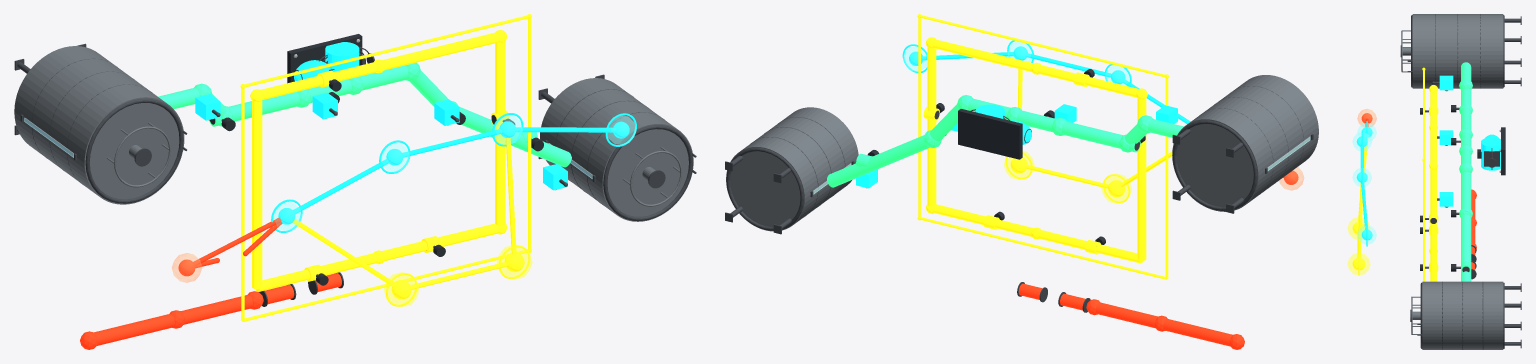
Rendered from safecut_ot_pipeline_graph.glb.
3 views of the same model, side by side, from view 1: azimuth 30°, elevation 25°; view 2: azimuth 150°, elevation 25°; view 3: azimuth 270°, elevation 25° (orthographic). The views are drawn at different scales.
Parts seen in each view (by area): view 1: Process_tank_A_body, Process_tank_B_body, Safety_loop_05, Safety_loop_02, Process_tank_A_top_ring, Safety_loop_03, Protected_OT_pipeline_06, Process_tank_B_top_ring, Safety_loop_04, Attacker_route_00, Safety_loop_01, Safety_loop_00 (+29 smaller); view 2: Process_tank_A_body, Process_tank_B_body, Main_OT_pump_base, Protected_OT_pipeline_06, Safety_loop_05, Safety_loop_02, Safety_loop_03, Process_tank_A_bottom_ring, Safety_loop_00, Safety_loop_04, Safety_loop_01, Process_tank_B_bottom_ring (+11 smaller); view 3: Process_tank_A_body, Process_tank_B_body, Safety_loop_02, Protected_OT_pipeline_06, Main_OT_pump_motor, Protected_OT_pipeline_05, Graph_node_safety_2_glow, Graph_edge_6, Graph_node_attacker_glow, Graph_node_plc_2_glow, Graph_node_plc_1_glow, Graph_node_scada_glow (+17 smaller).
Part boxes in pixels (x1,y1,x2,y2): Process_tank_A_body: (14, 46, 184, 204); Process_tank_B_body: (540, 78, 693, 221); Safety_loop_05: (252, 101, 262, 289); Safety_loop_02: (495, 41, 505, 225); Process_tank_A_top_ring: (85, 98, 183, 203); Safety_loop_03: (382, 32, 499, 70); Protected_OT_pipeline_06: (459, 107, 571, 167); Process_tank_B_top_ring: (603, 124, 693, 220); Safety_loop_04: (261, 62, 377, 99); Attacker_route_00: (94, 314, 174, 345); Safety_loop_01: (382, 223, 499, 261); Safety_loop_00: (255, 253, 377, 291); Process_tank_A_body: (1172, 75, 1318, 211); Process_tank_B_body: (726, 107, 858, 231); Main_OT_pump_base: (958, 109, 1022, 159); Protected_OT_pipeline_06: (827, 135, 929, 187); Safety_loop_05: (1137, 98, 1146, 260); Safety_loop_02: (927, 47, 936, 206); Safety_loop_03: (932, 39, 1033, 71); Process_tank_A_bottom_ring: (1172, 120, 1257, 210); Safety_loop_00: (1037, 230, 1143, 263); Safety_loop_04: (1037, 65, 1138, 97); Safety_loop_01: (932, 204, 1033, 236); Process_tank_B_bottom_ring: (726, 147, 803, 230); Process_tank_A_body: (1412, 14, 1503, 88); Process_tank_B_body: (1422, 281, 1503, 349); Safety_loop_02: (1430, 169, 1436, 281); Protected_OT_pipeline_06: (1461, 214, 1471, 281); Main_OT_pump_motor: (1481, 137, 1500, 170); Protected_OT_pipeline_05: (1461, 172, 1471, 208); Graph_node_safety_2_glow: (1347, 253, 1370, 275); Graph_edge_6: (1357, 182, 1362, 258); Graph_node_attacker_glow: (1357, 109, 1376, 127); Graph_node_plc_2_glow: (1352, 168, 1371, 186); Graph_node_plc_1_glow: (1352, 132, 1371, 150); Graph_node_scada_glow: (1357, 226, 1376, 244).
Bounding box in the file's own units: 14.24 × 6.24 × 5.37.
